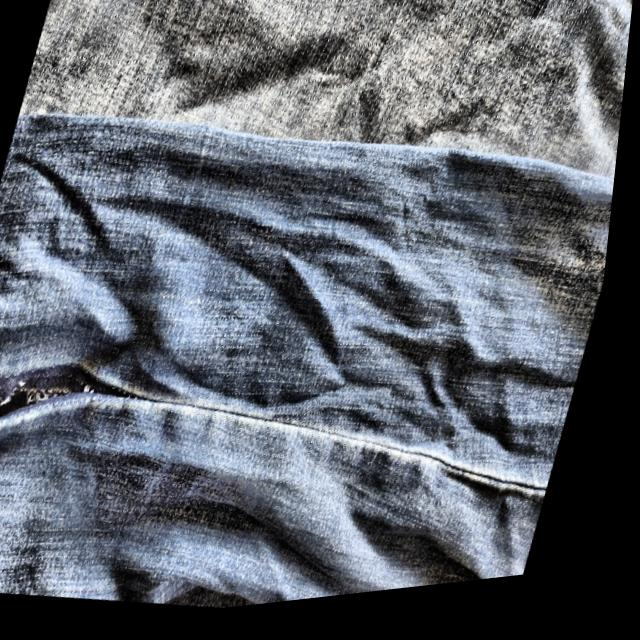seam: (0, 316, 169, 468)
